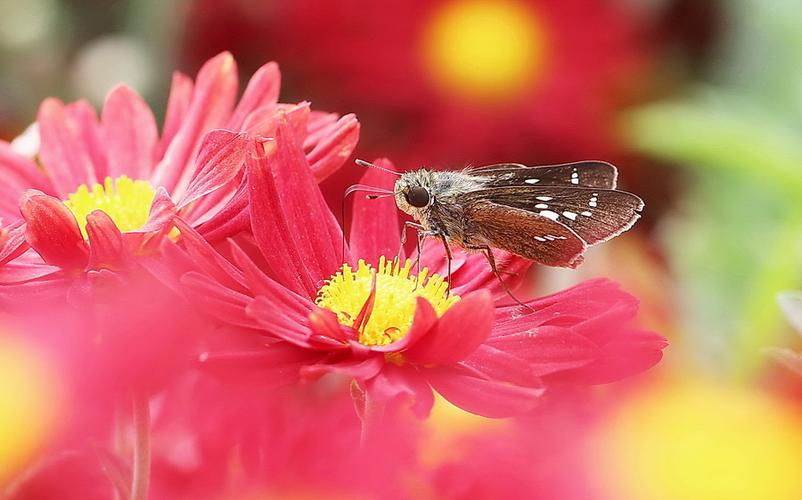Hesperiidae: (341, 153, 648, 310)
